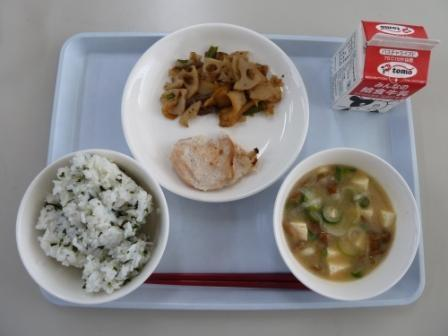Milk: (337, 14, 427, 128)
Rice: (15, 152, 160, 306)
Soups: (275, 156, 418, 297)
cooked food based on meat: (169, 127, 262, 193)
vegetable based cooked food: (152, 40, 275, 138)
